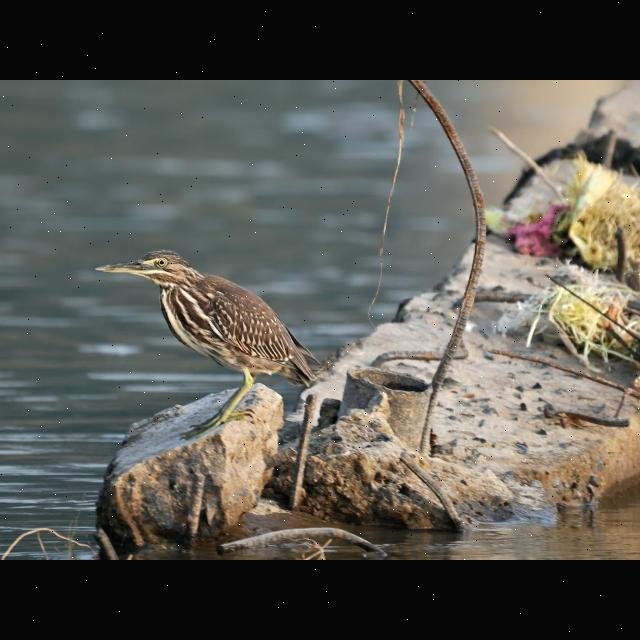heron: (84, 242, 324, 436)
